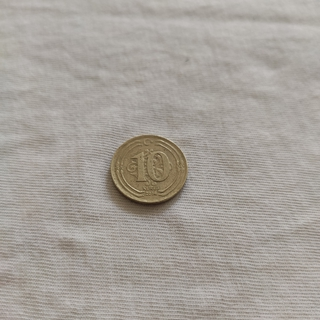10KURUS: (109, 132, 189, 207)
